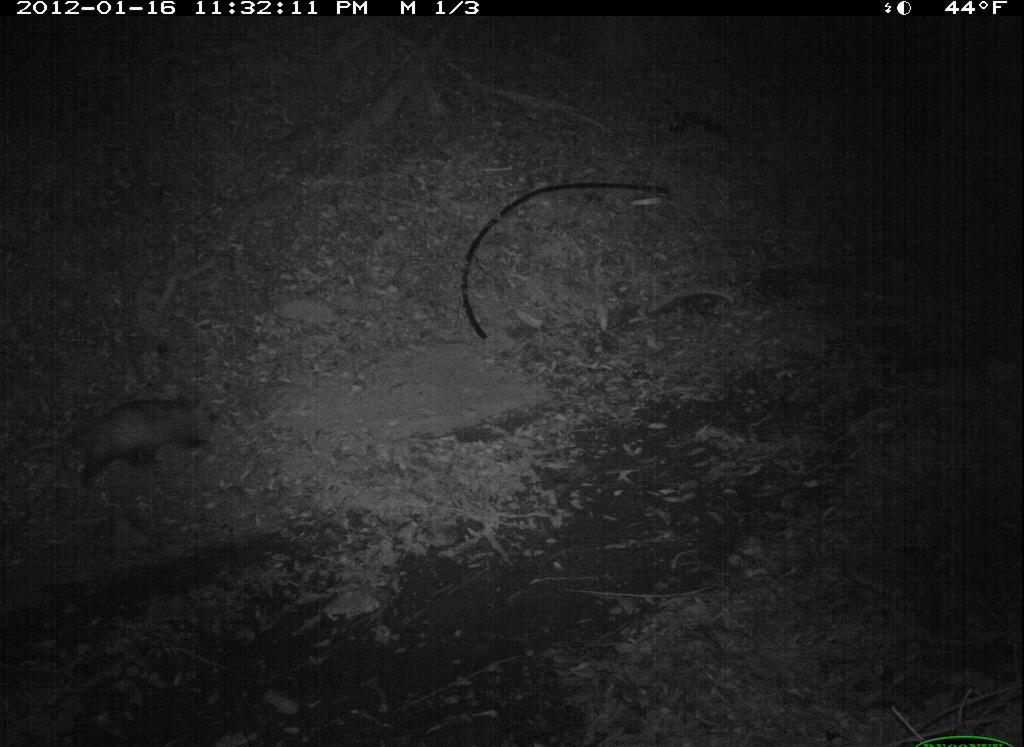opossum: (25, 389, 236, 485)
